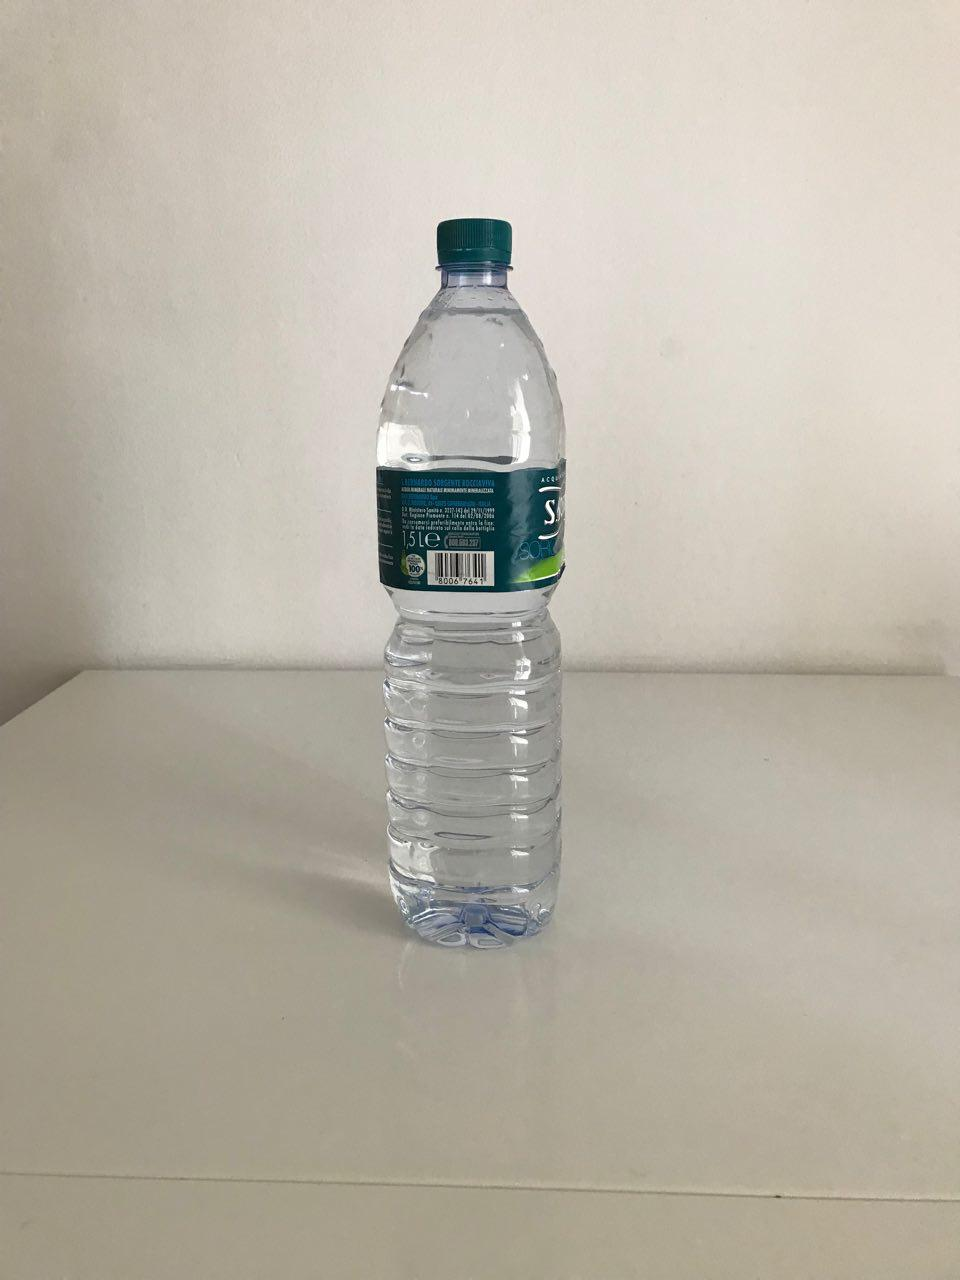san_bernardo: (371, 215, 569, 953)
